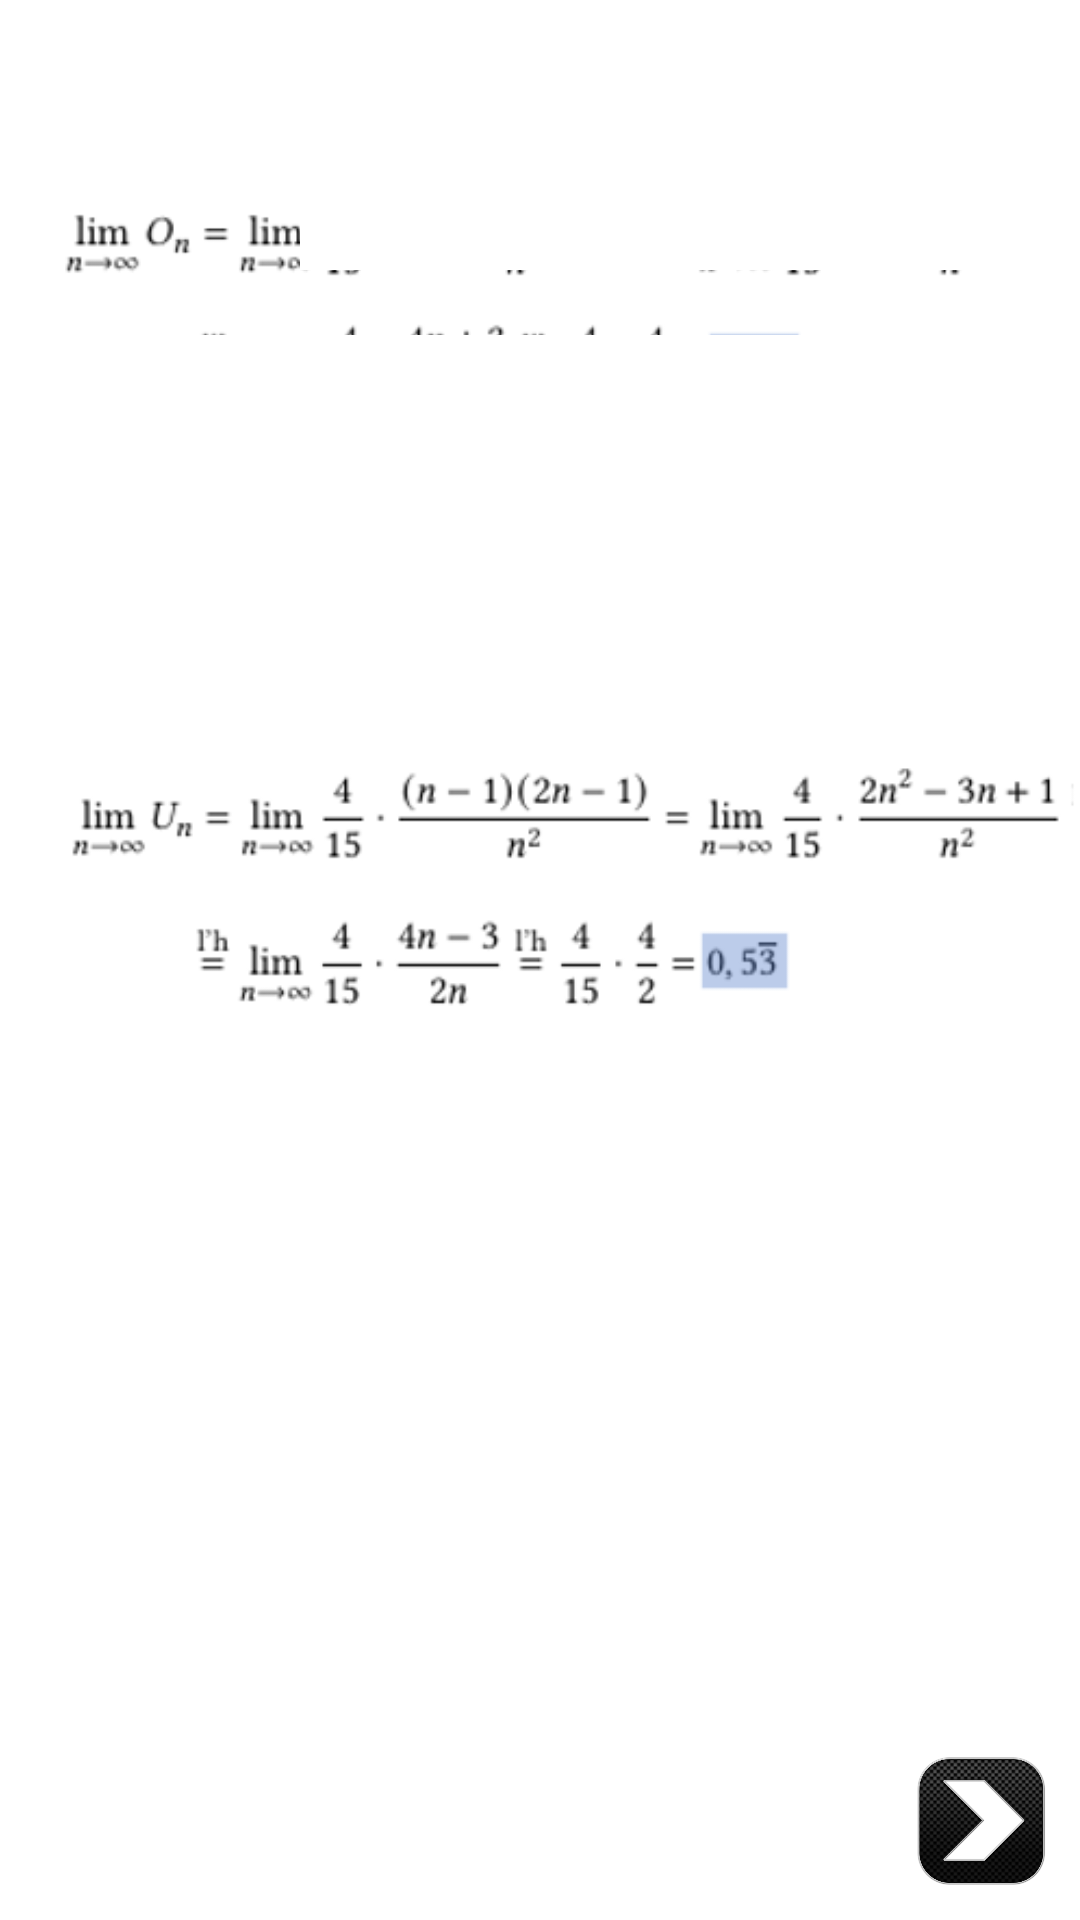

Where to tap for icons on this 1080w x 1920h app screen, as point (x, y):
nextbutton: point (981, 1821)
